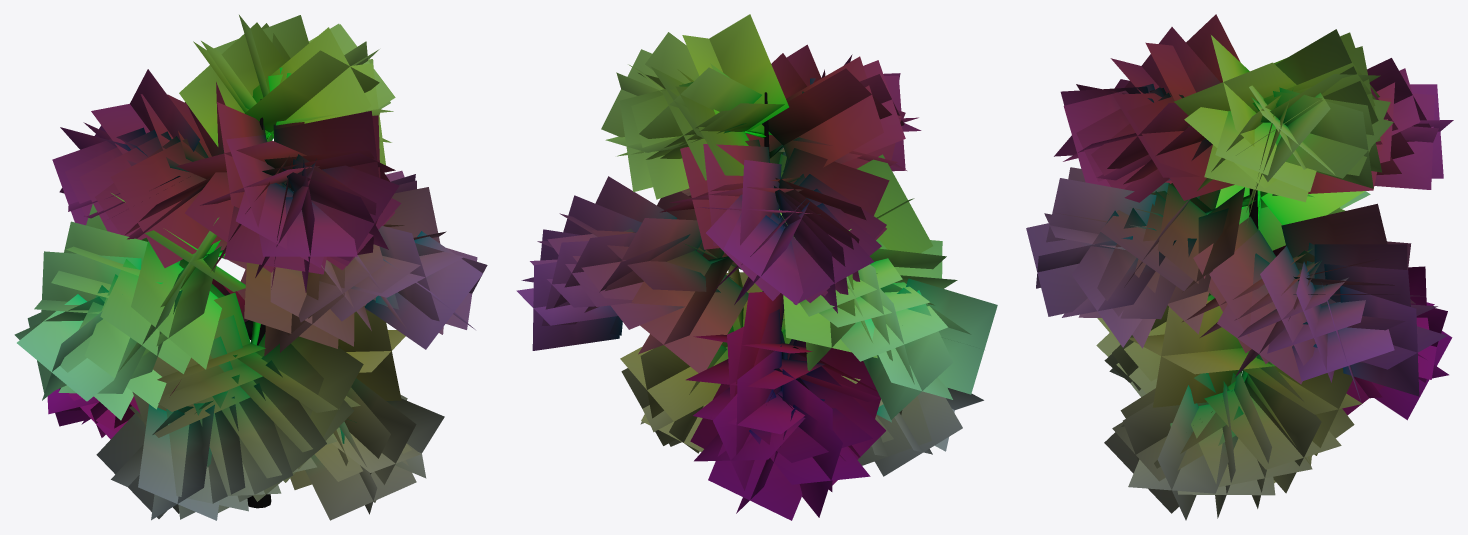
File: URP_P14_Tree_1_LOD_2.fbx
The picture shows the model from 3 angles, left to right: view 1: azimuth 30°, elevation 25°; view 2: azimuth 150°, elevation 25°; view 3: azimuth 270°, elevation 25°; orthographic projection. The views are drawn at different scales.
Visible parts, largest first — view 1: Tree_1_LOD_2; view 2: Tree_1_LOD_2; view 3: Tree_1_LOD_2.
Boxes of the visible parts, bbox=[...] form: Tree_1_LOD_2: bbox=[14, 15, 487, 520]; Tree_1_LOD_2: bbox=[516, 14, 997, 520]; Tree_1_LOD_2: bbox=[1026, 14, 1453, 520].
Size of the model in its own units: 440 by 456 by 380.
